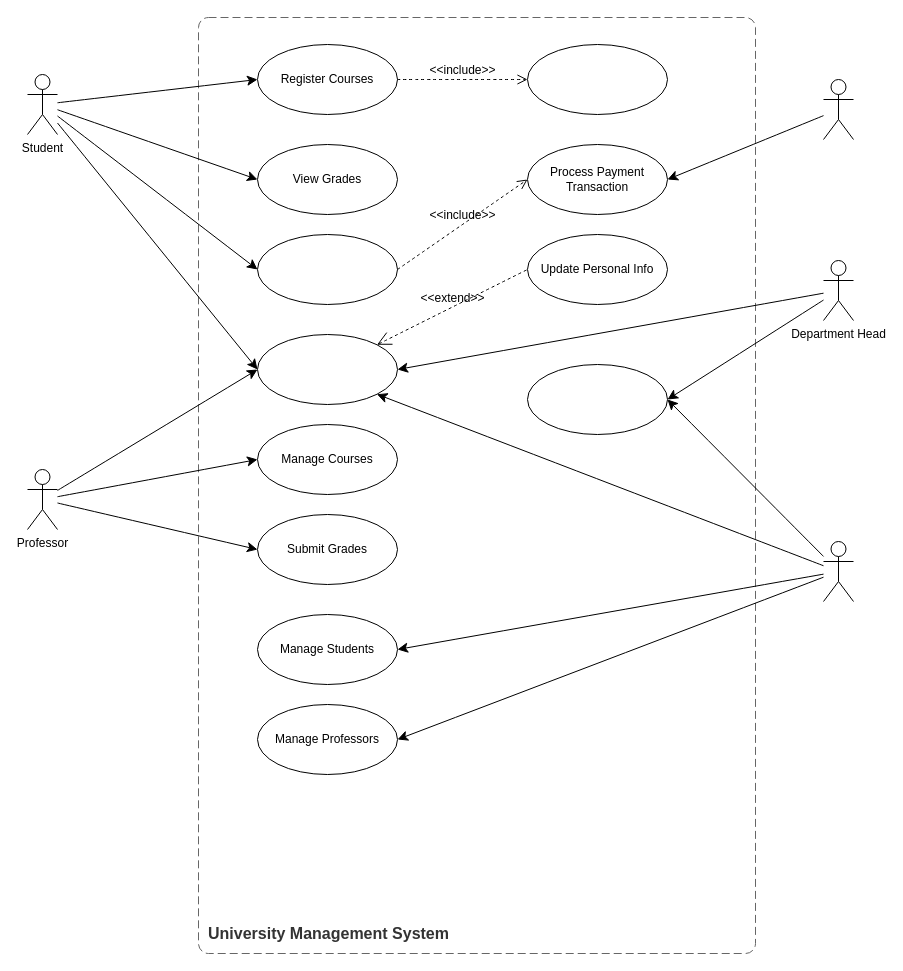
Image size: 903x971. Some labels were removed from this diagram. The shapes that lost their labels are listed below. From the top down, each one's centre as x and y in pixels, then its label:
the point at 597,79: Check Prerequisites
the point at 838,109: Payment System
the point at 327,269: Pay Tuition Fees
the point at 327,369: Login
the point at 597,399: Generate Reports
the point at 838,571: Admin
